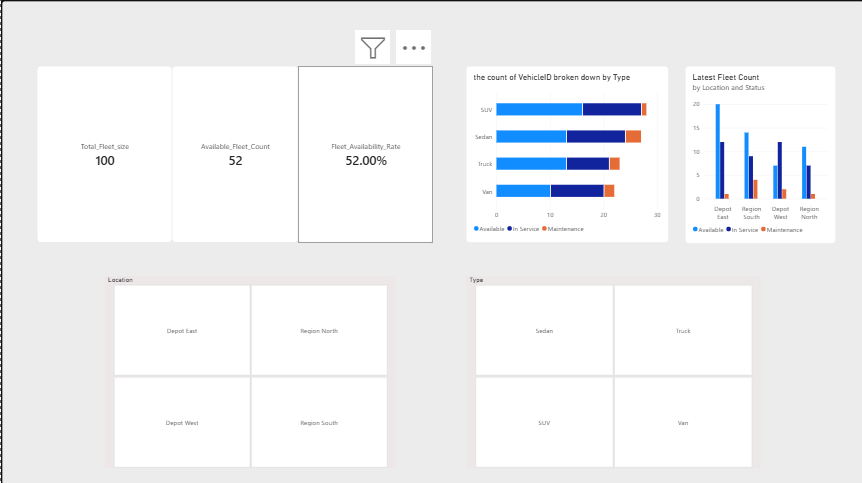

The dashboard page shown, as its layout file describes it:
{"tool":"powerbi","page":{"name":"Car Fleet Availability Management Solution","canvas":[1920,1080],"ordinal":0},"visuals":[{"type":"cardVisual","fields":{"Data":["Vehicle_Register.Available_Fleet_Count"]},"box":[380,147.5,280,392.5],"z":0},{"type":"cardVisual","fields":{"Data":["Vehicle_Register.Total_Fleet_size"]},"box":[80,147.5,300,392.5],"z":1000},{"type":"cardVisual","fields":{"Data":["Vehicle_Register.Fleet_Availability_Rate"]},"box":[660,147.5,300,392.5],"z":2000},{"type":"barChart","title":"the count of VehicleID broken down by Type","fields":{"Category":["Vehicle_Register.Type"],"Series":["Status_Log.Status"],"Y":["Status_Log.Latest Fleet Count"]},"box":[1032.5,147.5,450,392.5],"z":3000},{"type":"clusteredColumnChart","fields":{"Category":["Vehicle_Register.Location"],"Series":["Status_Log.Status"],"Y":["Status_Log.Latest Fleet Count"]},"box":[1520.3,146.4,335.2,394.2],"z":4000},{"type":"slicer","fields":{"Values":["Vehicle_Register.Location"]},"box":[230,612.5,647.5,427.5],"z":5000},{"type":"slicer","fields":{"Values":["Vehicle_Register.Type"]},"box":[1032.5,612.5,655,427.5],"z":6000}]}

Visuals, with their boxes in screenshot pixels (x1, y1, x2, y2), scaled from the page's 1920x1080 canvas onto the 862x483 screenshot:
cardVisual - Vehicle_Register.Available_Fleet_Count: Rect(171, 66, 296, 242)
cardVisual - Vehicle_Register.Total_Fleet_size: Rect(36, 66, 171, 242)
cardVisual - Vehicle_Register.Fleet_Availability_Rate: Rect(296, 66, 431, 242)
"the count of VehicleID broken down by Type" barChart: Rect(464, 66, 666, 242)
clusteredColumnChart - Vehicle_Register.Location x Status_Log.Status: Rect(683, 65, 833, 242)
slicer - Vehicle_Register.Location: Rect(103, 274, 394, 465)
slicer - Vehicle_Register.Type: Rect(464, 274, 758, 465)
